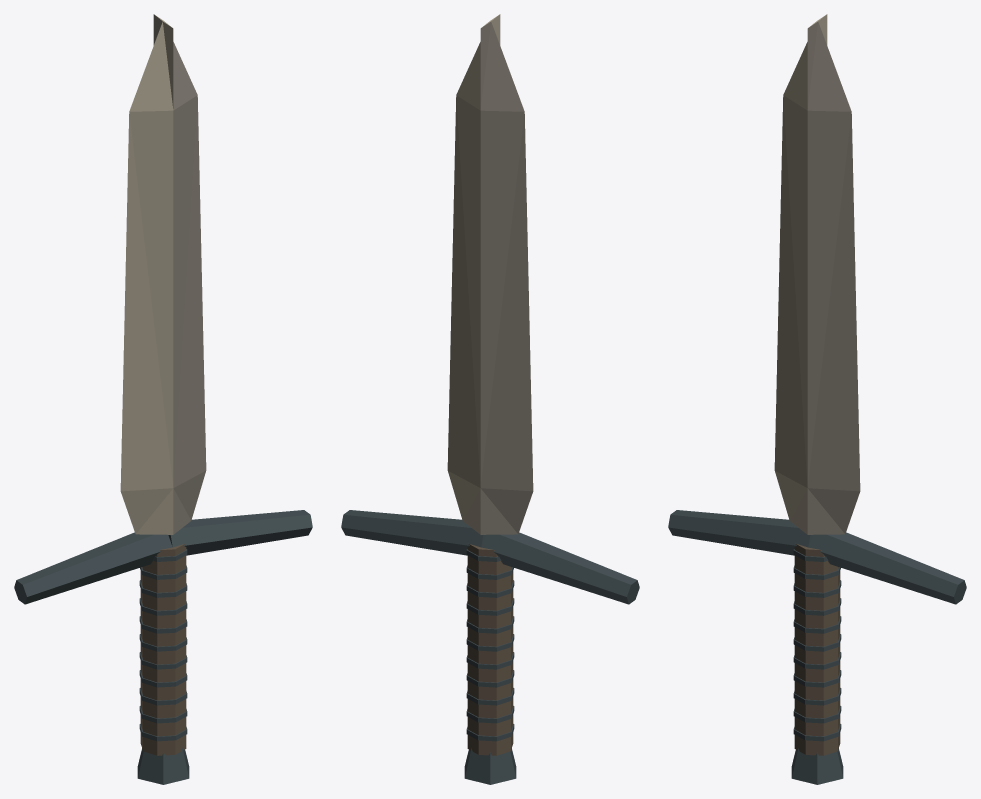
File: Equip_GreatswordMercenary.fbx
The picture shows the model from 3 angles, left to right: view 1: azimuth 30°, elevation 25°; view 2: azimuth 150°, elevation 25°; view 3: azimuth 330°, elevation 25°; orthographic projection.
Parts seen in each view (by area): view 1: Equip_GreatswordMercenary; view 2: Equip_GreatswordMercenary; view 3: Equip_GreatswordMercenary.
Boxes of the visible parts, bbox=[...] form: Equip_GreatswordMercenary: bbox=[14, 14, 312, 784]; Equip_GreatswordMercenary: bbox=[341, 14, 639, 784]; Equip_GreatswordMercenary: bbox=[668, 14, 966, 784].
Bounding box in the file's own units: 0.8061 × 2.01 × 0.1247.
